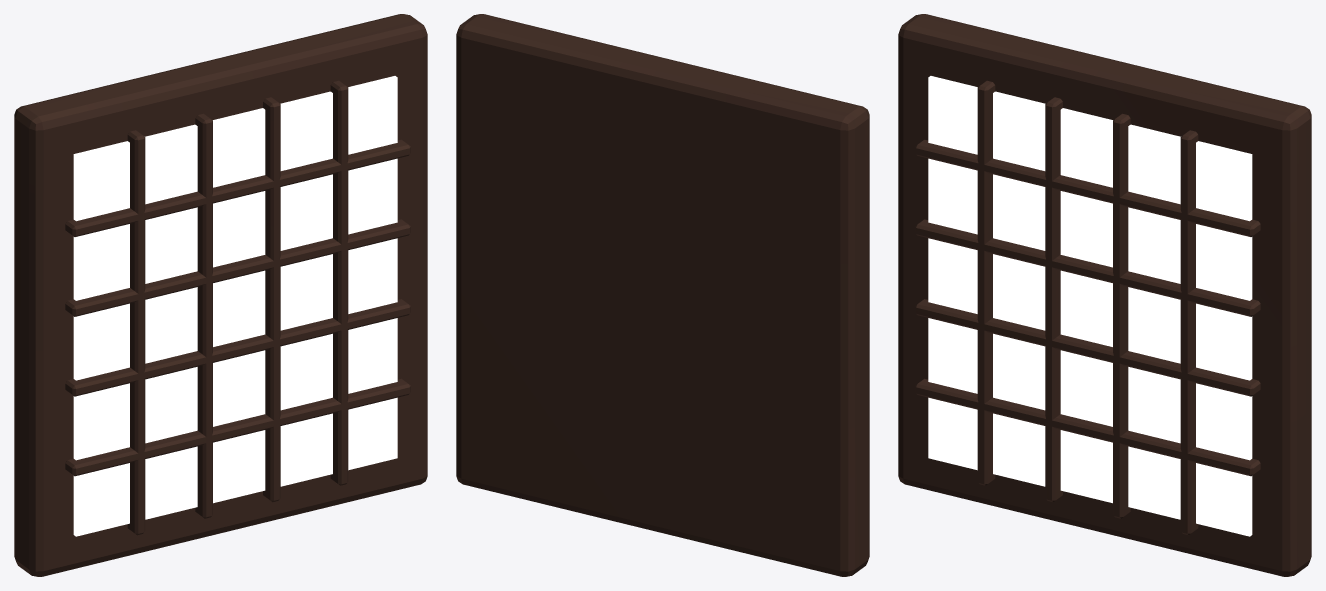
The model's file is window_lattice.glb.
3 views of the same model, side by side, from view 1: azimuth 30°, elevation 25°; view 2: azimuth 150°, elevation 25°; view 3: azimuth 330°, elevation 25° (orthographic).
Parts seen in each view (by area): view 1: Frame, Glow; view 2: Frame; view 3: Frame, Glow.
Boxes of the visible parts, left/top/right/bottom form: Frame: left=14, top=14, right=427, bottom=576; Glow: left=73, top=76, right=397, bottom=536; Frame: left=456, top=14, right=869, bottom=576; Frame: left=898, top=14, right=1311, bottom=576; Glow: left=928, top=76, right=1252, bottom=536.
Bounding box in the file's own units: 0.94 × 1.04 × 0.14.
